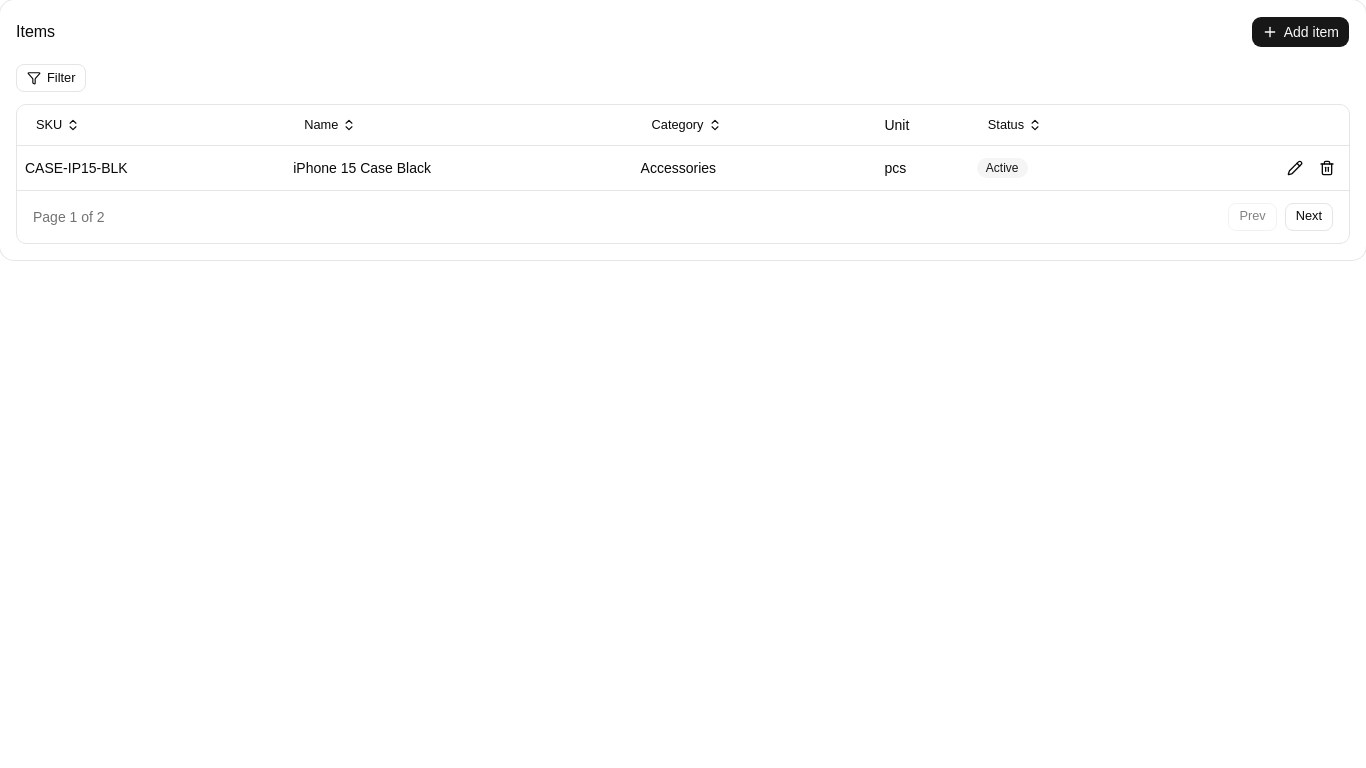
ItemsTable › filters items by category and resets pagination
Expected: the text "iPhone 15 Case Black" is shown, [285, 145, 633, 190]
Click the button "Next" at coordinates (1309, 216), box [1285, 202, 1333, 230]
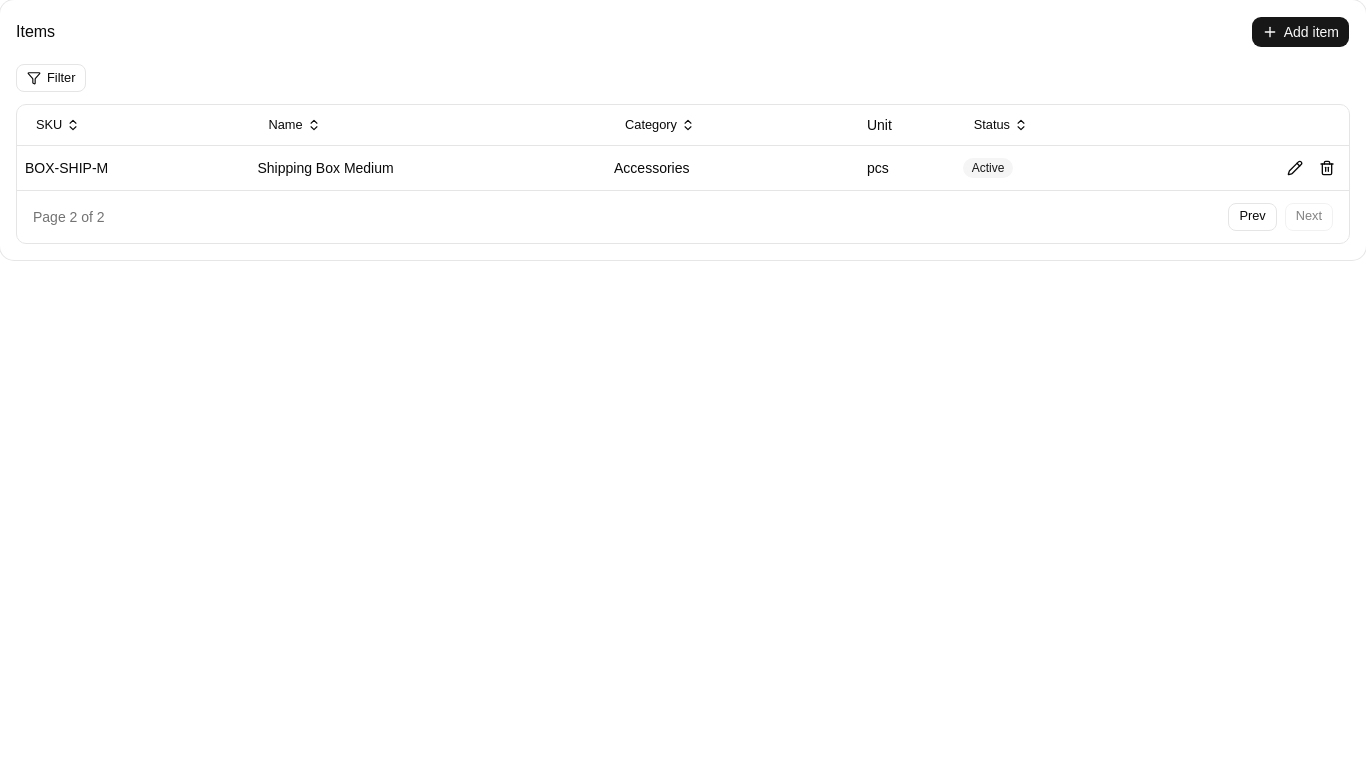
Expected: the text "Page 2 of 2" is shown, [33, 206, 105, 226]
Click the button "Filter" at coordinates (51, 78), box [16, 64, 86, 92]
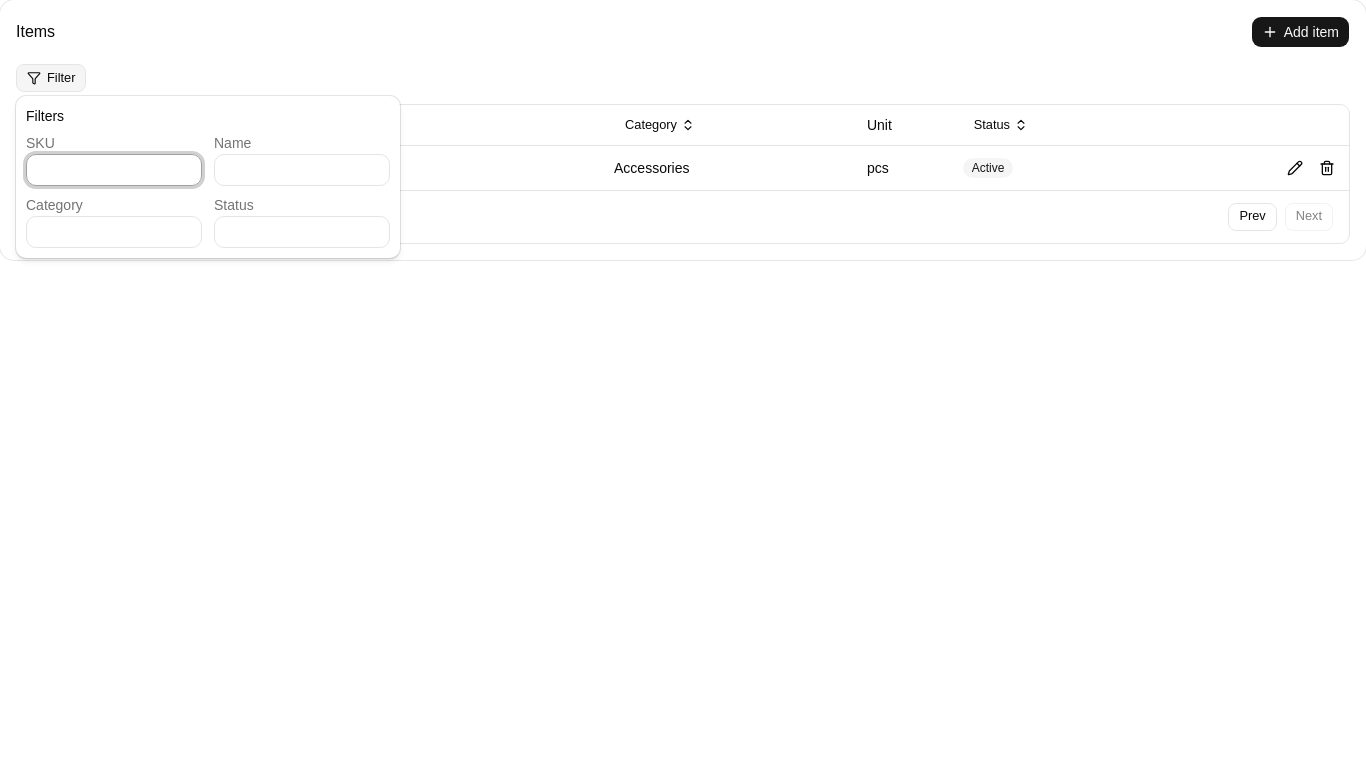
Type "packaging" into the field named "Filter items by category" at coordinates (114, 232), box [26, 216, 202, 248]
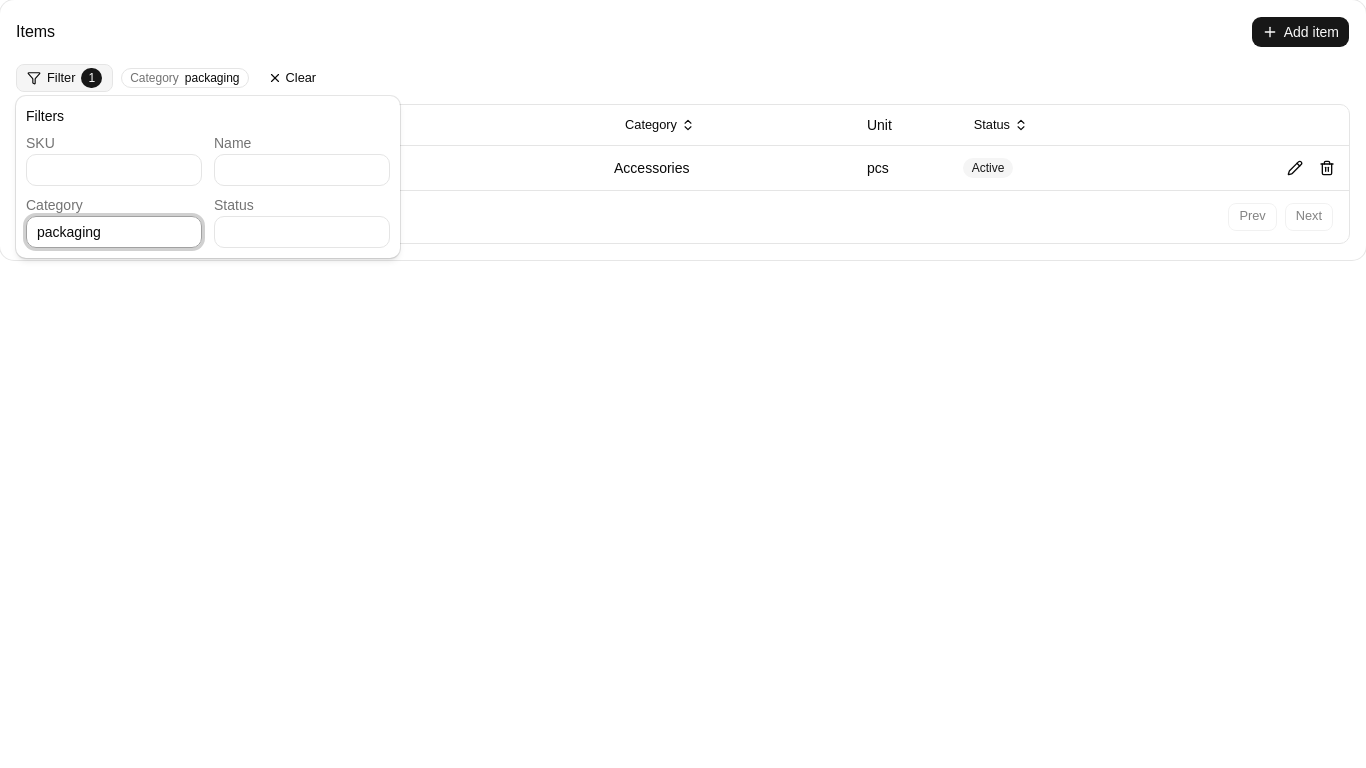
Expected: the text "Page 1 of 1" is shown, [33, 206, 105, 226]
